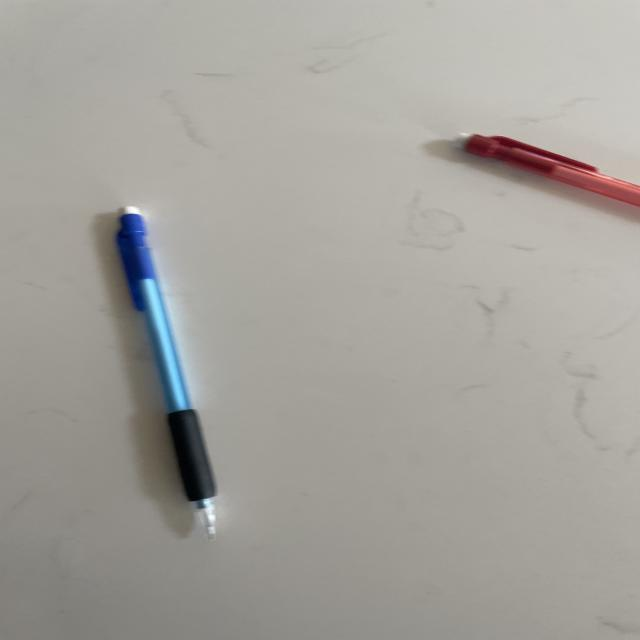mechanical-pencils: (109, 206, 232, 548), (445, 131, 640, 211)
